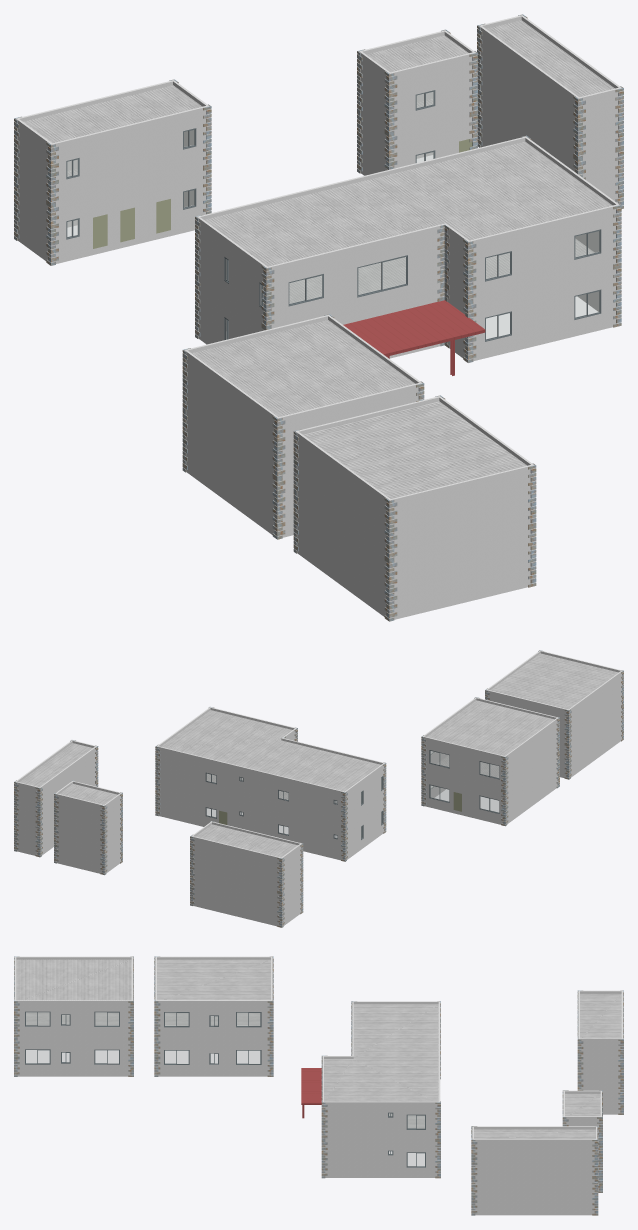
Rendered from Plan(REF)_levels(2)_window(REF)_wall(WAFRA WALL)_quoin(Y)_cornice(N).fbx.
The picture shows the model from 3 angles, top to bottom: view 1: azimuth 30°, elevation 25°; view 2: azimuth 150°, elevation 25°; view 3: azimuth 270°, elevation 25°; orthographic projection. The views are drawn at different scales.
Visible parts, largest first — view 1: WAFRA Stucco - White Rough 23, WAFRA Roof - Corrugated Sheet Matte 23, WAFRA Stone - Slate Natural 23, Glass - Clear, WAFRA Roof - Standing Seam Red Coat 23, Color - White, Metal - Finish - Aluminum, Color - Beige; view 2: WAFRA Stucco - White Rough 23, WAFRA Roof - Corrugated Sheet Matte 23, WAFRA Stone - Slate Natural 23, Glass - Clear, Color - White, Metal - Finish - Aluminum; view 3: WAFRA Stucco - White Rough 23, WAFRA Roof - Corrugated Sheet Matte 23, WAFRA Stone - Slate Natural 23, Glass - Clear, Metal - Finish - Aluminum, Color - White, WAFRA Roof - Standing Seam Red Coat 23.
Part boxes in pixels (left/top/right/bottom): WAFRA Stucco - White Rough 23: left=16, top=15, right=621, bottom=619; WAFRA Roof - Corrugated Sheet Matte 23: left=23, top=20, right=614, bottom=498; WAFRA Stone - Slate Natural 23: left=14, top=14, right=623, bottom=621; Glass - Clear: left=67, top=92, right=598, bottom=339; WAFRA Roof - Standing Seam Red Coat 23: left=343, top=300, right=485, bottom=375; Color - White: left=14, top=29, right=623, bottom=618; Metal - Finish - Aluminum: left=66, top=90, right=601, bottom=341; Color - Beige: left=93, top=139, right=472, bottom=248; WAFRA Stucco - White Rough 23: left=15, top=650, right=622, bottom=926; WAFRA Roof - Corrugated Sheet Matte 23: left=19, top=653, right=618, bottom=857; WAFRA Stone - Slate Natural 23: left=14, top=650, right=623, bottom=927; Glass - Clear: left=207, top=751, right=498, bottom=838; Color - White: left=14, top=675, right=623, bottom=925; Metal - Finish - Aluminum: left=205, top=750, right=499, bottom=839; WAFRA Stucco - White Rough 23: left=14, top=956, right=623, bottom=1215; WAFRA Roof - Corrugated Sheet Matte 23: left=16, top=959, right=621, bottom=1138; WAFRA Stone - Slate Natural 23: left=14, top=956, right=623, bottom=1215; Glass - Clear: left=26, top=1012, right=424, bottom=1165; Metal - Finish - Aluminum: left=25, top=1011, right=425, bottom=1167; Color - White: left=14, top=958, right=623, bottom=1213; WAFRA Roof - Standing Seam Red Coat 23: left=301, top=1068, right=321, bottom=1118.
Size of the model in its own units: 4163 by 5848 by 800.
Materials: 12 (5 with a texture image).
